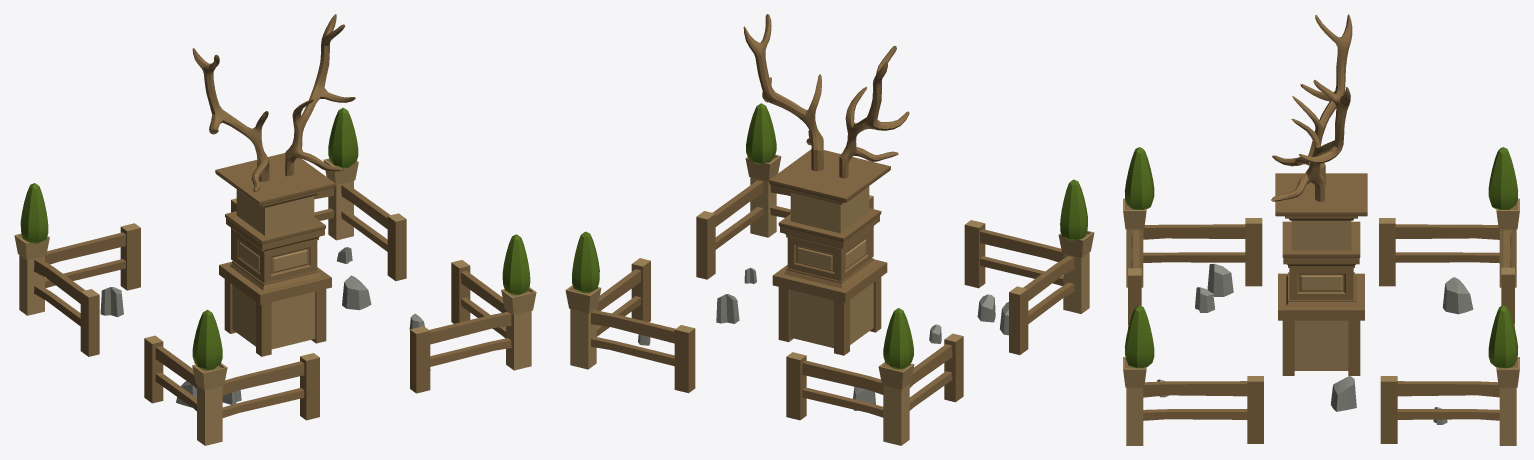
File: Town Center-CoERW5nFdE.glb
3 renders of one model, left to right at view 1: azimuth 30°, elevation 25°; view 2: azimuth 150°, elevation 25°; view 3: azimuth 270°, elevation 25°, orthographic. The views are drawn at different scales.
Parts seen in each view (by area): view 1: TownCenter_FirstAge_Level2; view 2: TownCenter_FirstAge_Level2; view 3: TownCenter_FirstAge_Level2.
Part boxes in pixels (x1,y1,x2,y2): TownCenter_FirstAge_Level2: (14, 14, 536, 445); TownCenter_FirstAge_Level2: (565, 14, 1094, 445); TownCenter_FirstAge_Level2: (1123, 14, 1519, 445).
Bounding box in the file's own units: 1.26 × 1.09 × 1.24.
